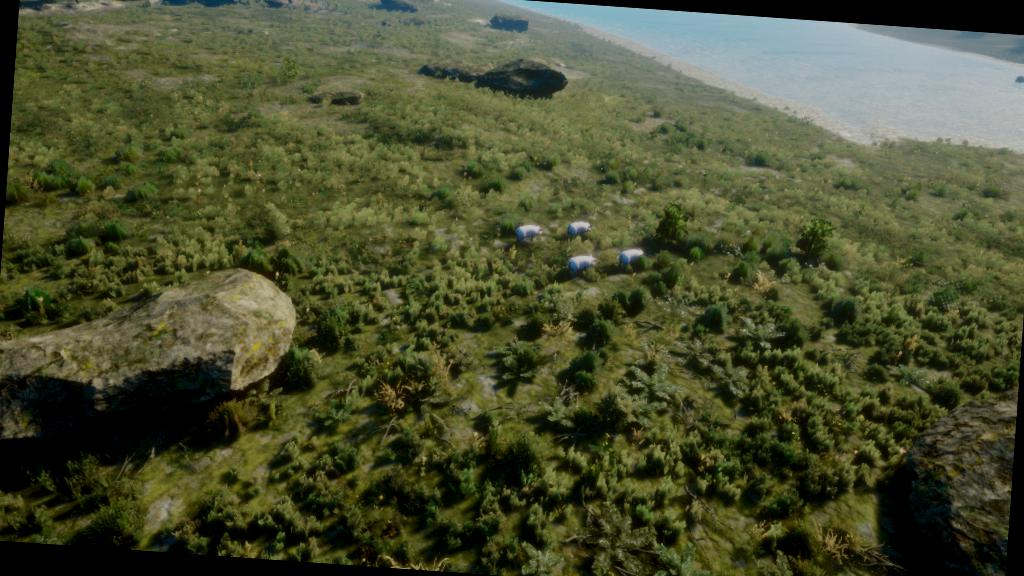pig: (560, 249, 605, 294), (610, 238, 652, 272), (510, 219, 551, 248), (562, 214, 594, 243)
